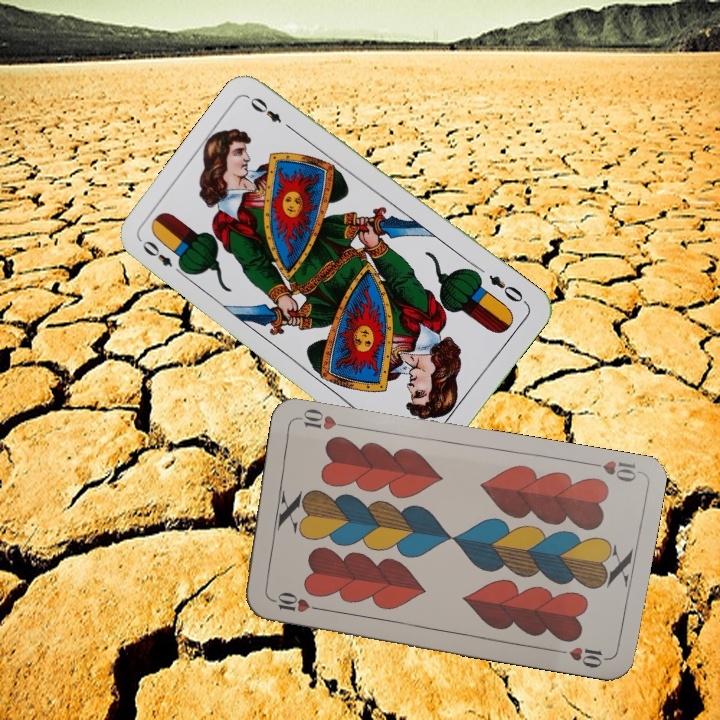EO: (138, 236, 188, 279), (484, 271, 530, 307)
H10: (583, 456, 639, 485), (266, 589, 324, 615)
